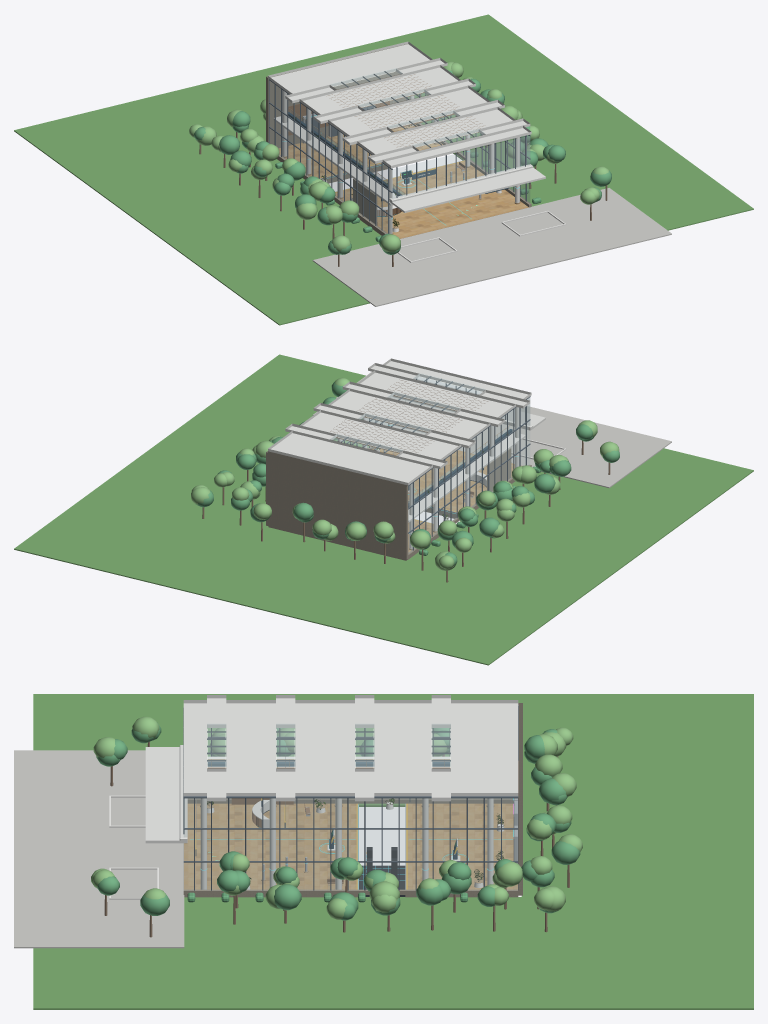
Rendered from world01.glb.
The picture shows the model from 3 angles, top to bottom: view 1: azimuth 30°, elevation 25°; view 2: azimuth 150°, elevation 25°; view 3: azimuth 270°, elevation 25°; orthographic projection. The views are drawn at different scales.
Parts seen in each view (by area): view 1: RT_RT_lawn, LM_plaster, RT_RT_paving, GL_G_glass, LM_marble, RT_RT_leaf2, RT_RT_leaf, LM_alu, LM_white, LM_concrete, LM_walnut, LM_navy (+1 smaller); view 2: RT_RT_lawn, LM_plaster, LM_concrete, GL_G_glass, RT_RT_paving, RT_RT_leaf2, RT_RT_leaf, LM_alu, LM_white, LM_marble, LM_walnut, RT_RT_bark; view 3: RT_RT_lawn, LM_plaster, RT_RT_paving, GL_G_glass, LM_marble, RT_RT_leaf, RT_RT_leaf2, LM_alu, LM_white, LM_concrete, RT_RT_bark, LM_dark (+2 smaller).
Boxes of the visible parts, left/top/right/bottom form: RT_RT_lawn: left=14, top=14, right=753, bottom=325; LM_plaster: left=268, top=41, right=545, bottom=212; RT_RT_paving: left=312, top=188, right=671, bottom=306; GL_G_glass: left=269, top=68, right=530, bottom=233; LM_marble: left=278, top=124, right=528, bottom=238; RT_RT_leaf2: left=189, top=61, right=608, bottom=252; RT_RT_leaf: left=194, top=69, right=611, bottom=254; LM_alu: left=268, top=71, right=530, bottom=233; LM_white: left=273, top=90, right=566, bottom=262; LM_concrete: left=266, top=44, right=531, bottom=238; LM_walnut: left=288, top=74, right=482, bottom=225; LM_navy: left=288, top=112, right=508, bottom=200; RT_RT_lawn: left=14, top=354, right=753, bottom=665; LM_plaster: left=268, top=358, right=545, bottom=485; LM_concrete: left=266, top=446, right=531, bottom=560; GL_G_glass: left=330, top=373, right=530, bottom=553; RT_RT_paving: left=312, top=371, right=671, bottom=488; RT_RT_leaf2: left=191, top=377, right=619, bottom=570; RT_RT_leaf: left=195, top=382, right=619, bottom=565; LM_alu: left=268, top=376, right=530, bottom=550; LM_white: left=338, top=396, right=566, bottom=548; LM_marble: left=372, top=447, right=521, bottom=552; LM_walnut: left=330, top=380, right=487, bottom=496; RT_RT_bark: left=202, top=440, right=610, bottom=582; RT_RT_lawn: left=33, top=694, right=753, bottom=1009; LM_plaster: left=145, top=695, right=518, bottom=843; RT_RT_paving: left=14, top=750, right=184, bottom=948; GL_G_glass: left=184, top=724, right=517, bottom=889; LM_marble: left=184, top=803, right=517, bottom=889; RT_RT_leaf: left=96, top=722, right=580, bottom=920; RT_RT_leaf2: left=91, top=716, right=582, bottom=919; LM_alu: left=183, top=705, right=518, bottom=890; LM_white: left=109, top=756, right=503, bottom=899; LM_concrete: left=183, top=703, right=522, bottom=897; RT_RT_bark: left=104, top=741, right=569, bottom=937; LM_dark: left=257, top=810, right=405, bottom=896.
Size of the model in its own units: 96 by 23.92 by 95.5.
29 materials, 7 textured.
